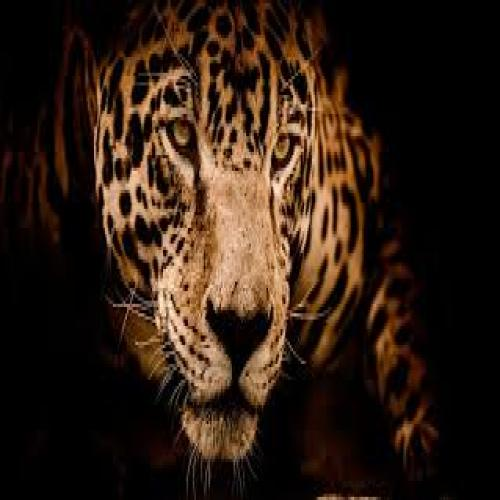jaguar_not-endangered: (99, 16, 345, 461)
